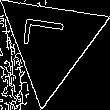L_E: (25, 23, 76, 61)
